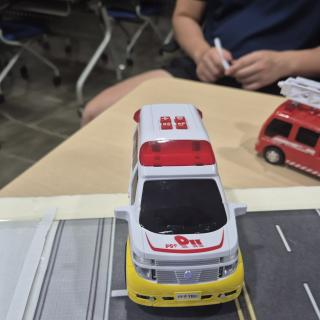Ambulance: (114, 104, 247, 306)
